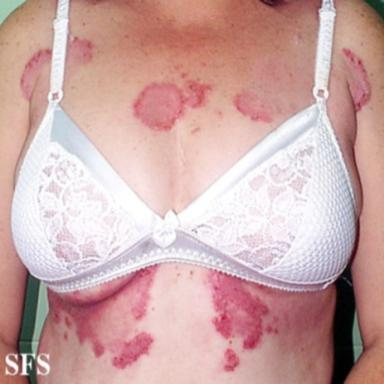Hailey-Hailey-Disease: (49, 265, 157, 370), (207, 271, 280, 352), (133, 81, 211, 130), (343, 48, 371, 112), (20, 48, 51, 100), (233, 88, 272, 123), (66, 36, 93, 64), (223, 348, 239, 372)
